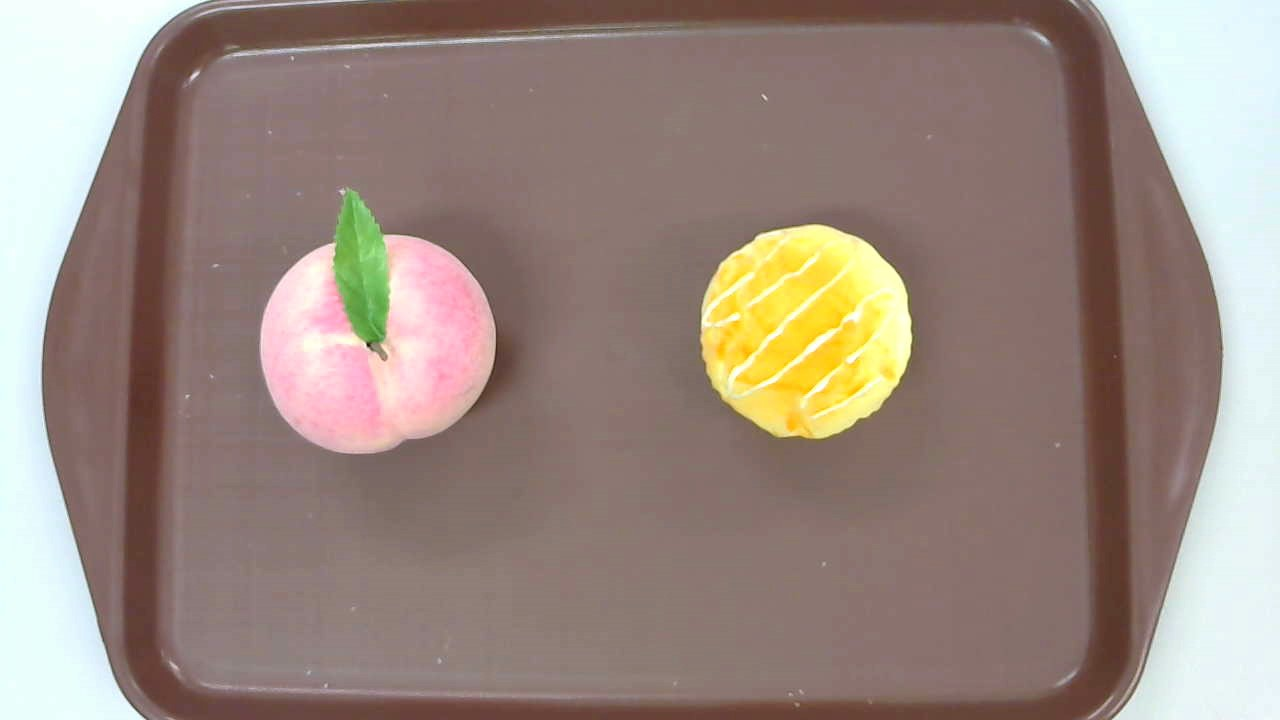cupcake: (701, 222, 914, 441)
peach: (258, 188, 496, 456)
